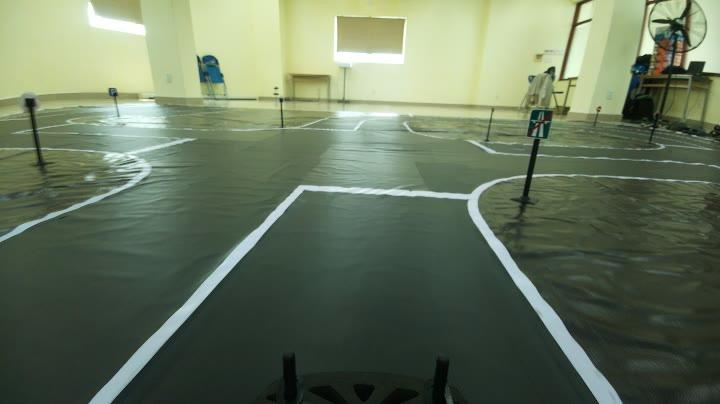highway_exit: (528, 108, 554, 144)
